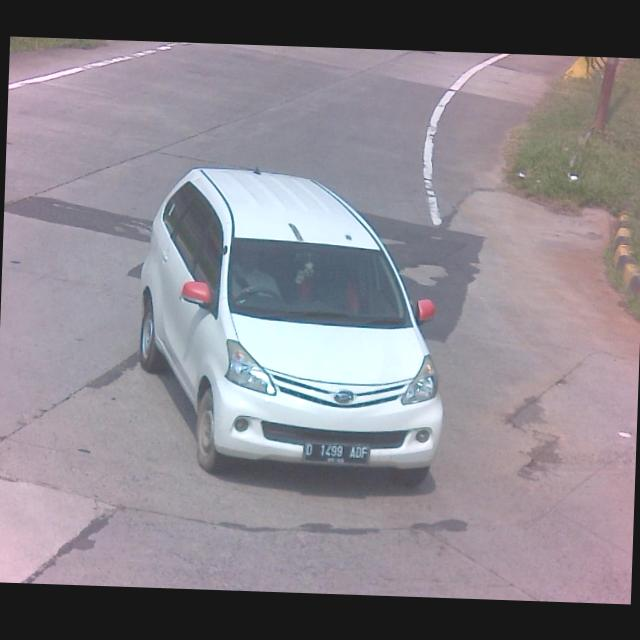plate: (300, 440, 370, 465)
